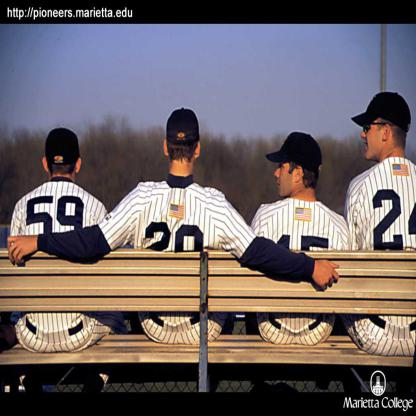face: (362, 114, 385, 161), (273, 155, 295, 198)
